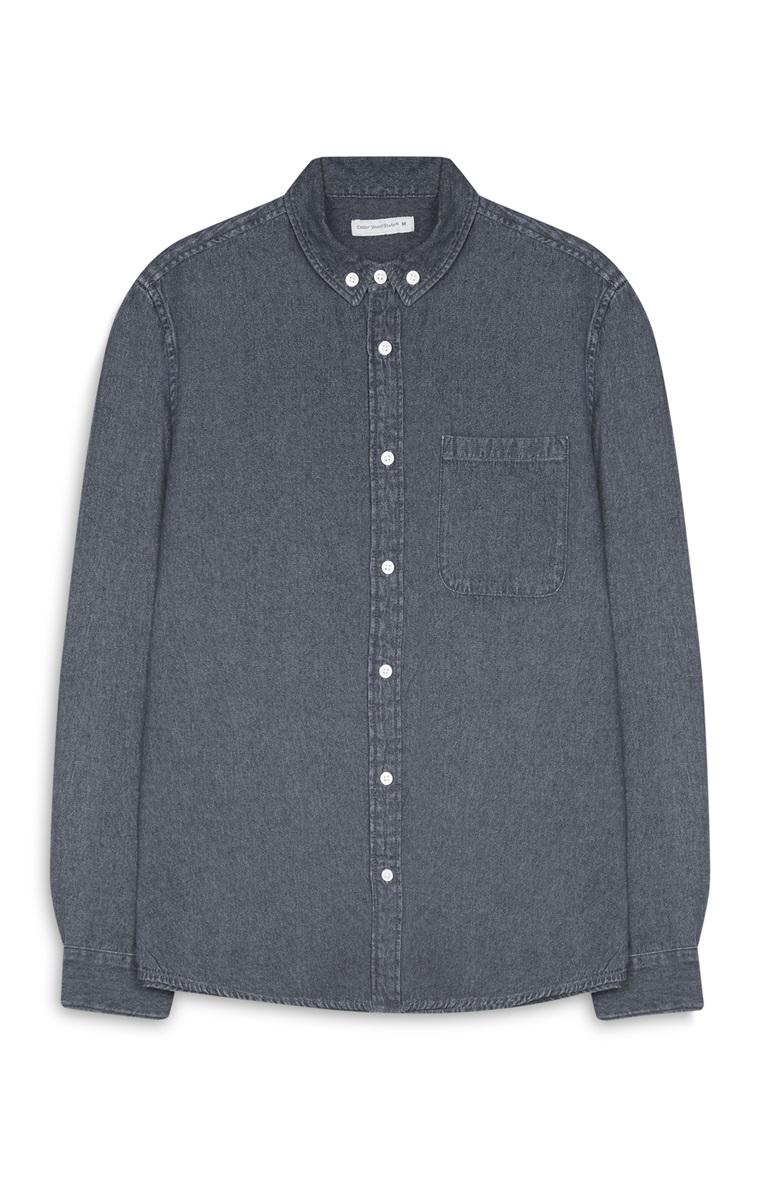teeshirt: (36, 145, 720, 1051)
